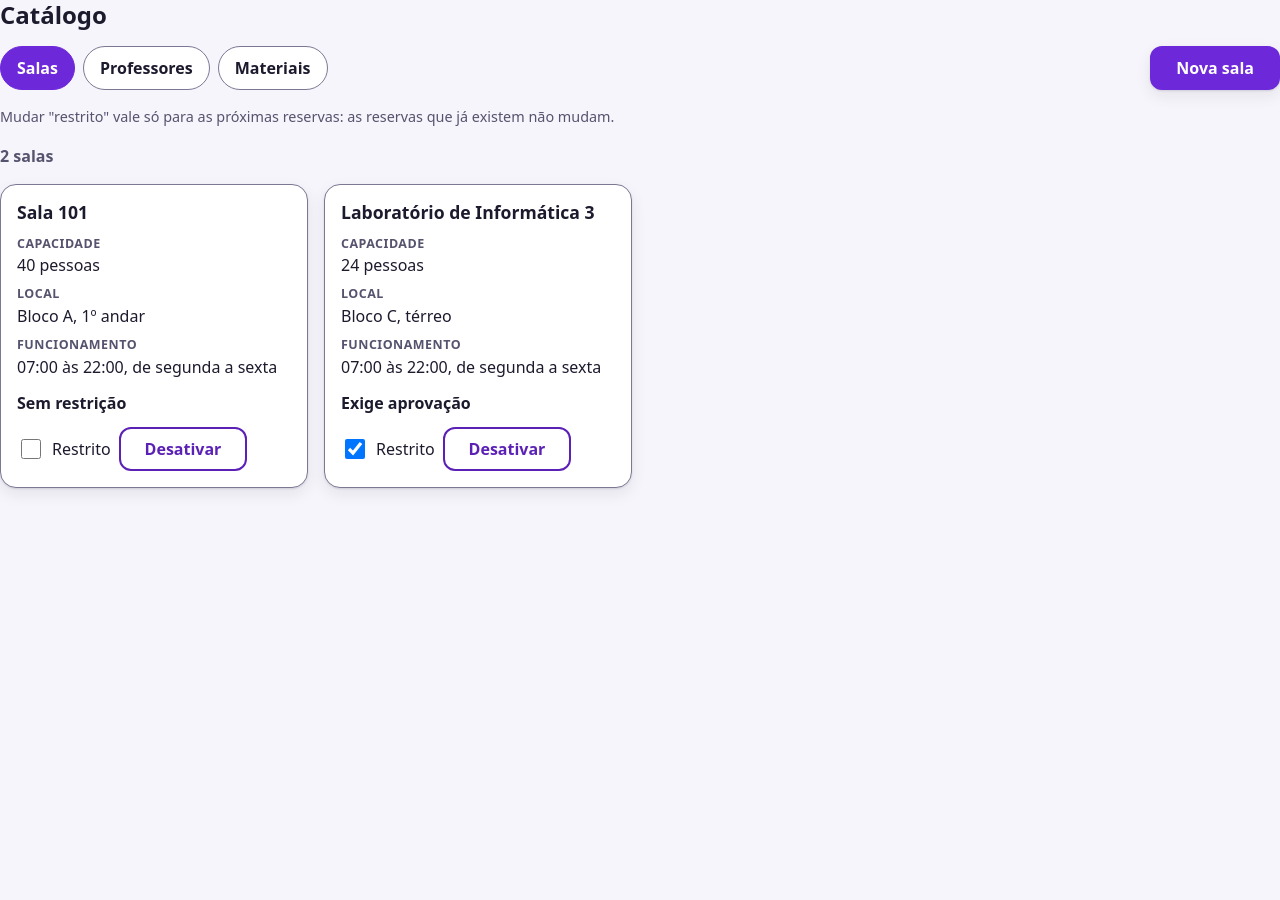
PaginaDoCatalogo: diálogo de cadastro › Nova sala abre um diálogo modal com os campos da sala e o foco no primeiro
This screenshot has width=1280, height=900.
Click the button "Nova sala" at (1215, 68), box [1150,46,1279,90]
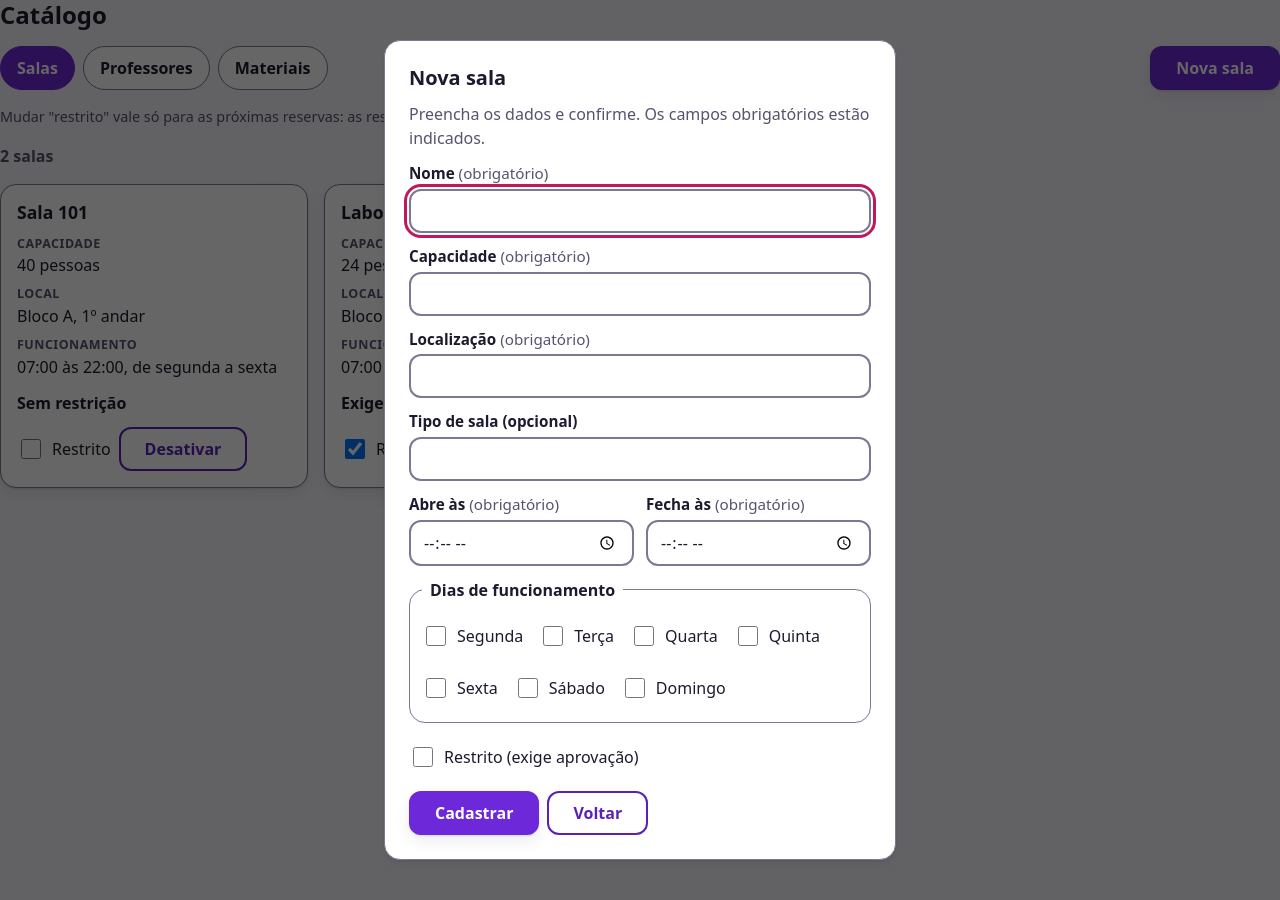
Expected: the field labelled "Nome (obrigatório)" is shown, [409,189,871,233]
Expected: the number field labelled "Capacidade (obrigatório)" is shown, [409,272,871,316]
Expected: the field labelled "Localização (obrigatório)" is shown, [409,354,871,398]
